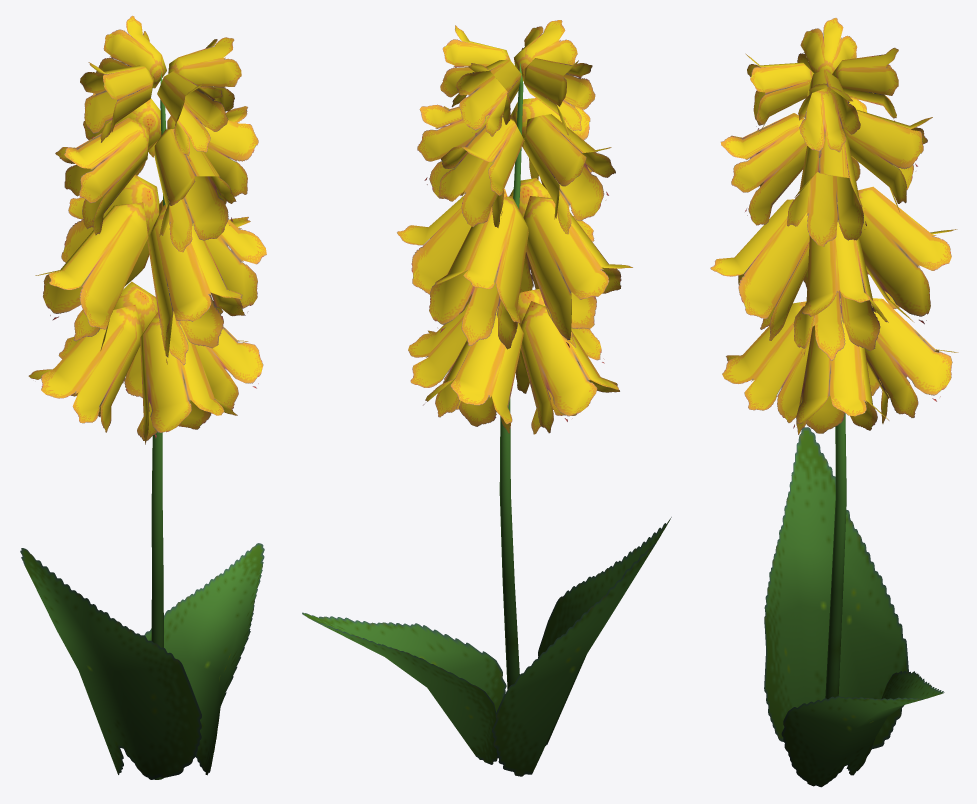
File: Flower_4_Single.glb
The picture shows the model from 3 angles, left to right: view 1: azimuth 30°, elevation 25°; view 2: azimuth 150°, elevation 25°; view 3: azimuth 270°, elevation 25°; orthographic projection.
Visible parts, largest first — view 1: Flower_4_Single; view 2: Flower_4_Single; view 3: Flower_4_Single.
Part boxes in pixels (left/top/right/bottom): Flower_4_Single: left=20, top=15, right=266, bottom=779; Flower_4_Single: left=302, top=20, right=671, bottom=776; Flower_4_Single: left=710, top=18, right=958, bottom=787.
Size of the model in its own units: 1.07 by 2.42 by 0.7729.
2 materials, 2 textured.
